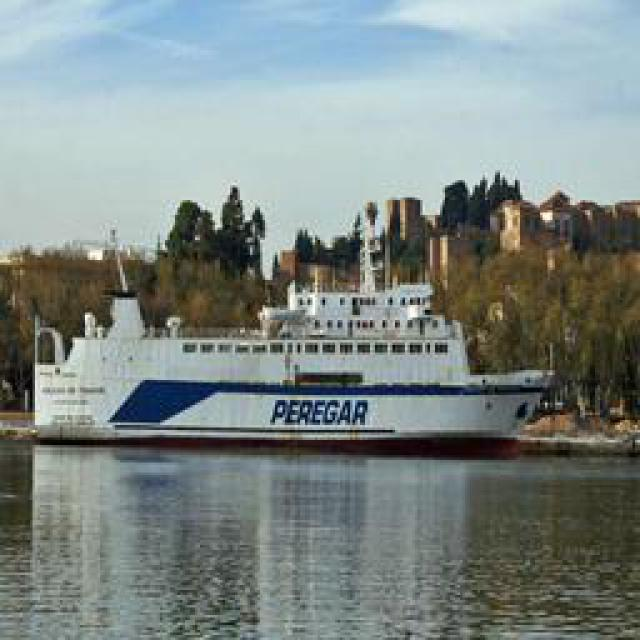Ship: (18, 210, 573, 448)
